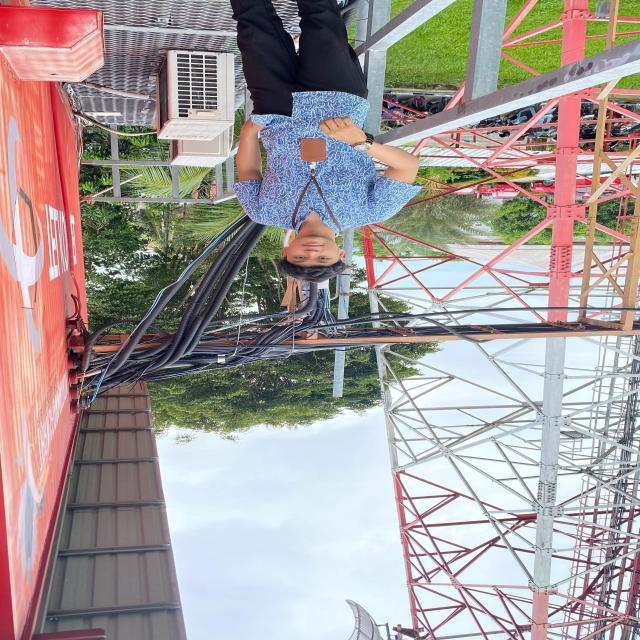nohelmet: (276, 226, 350, 287)
